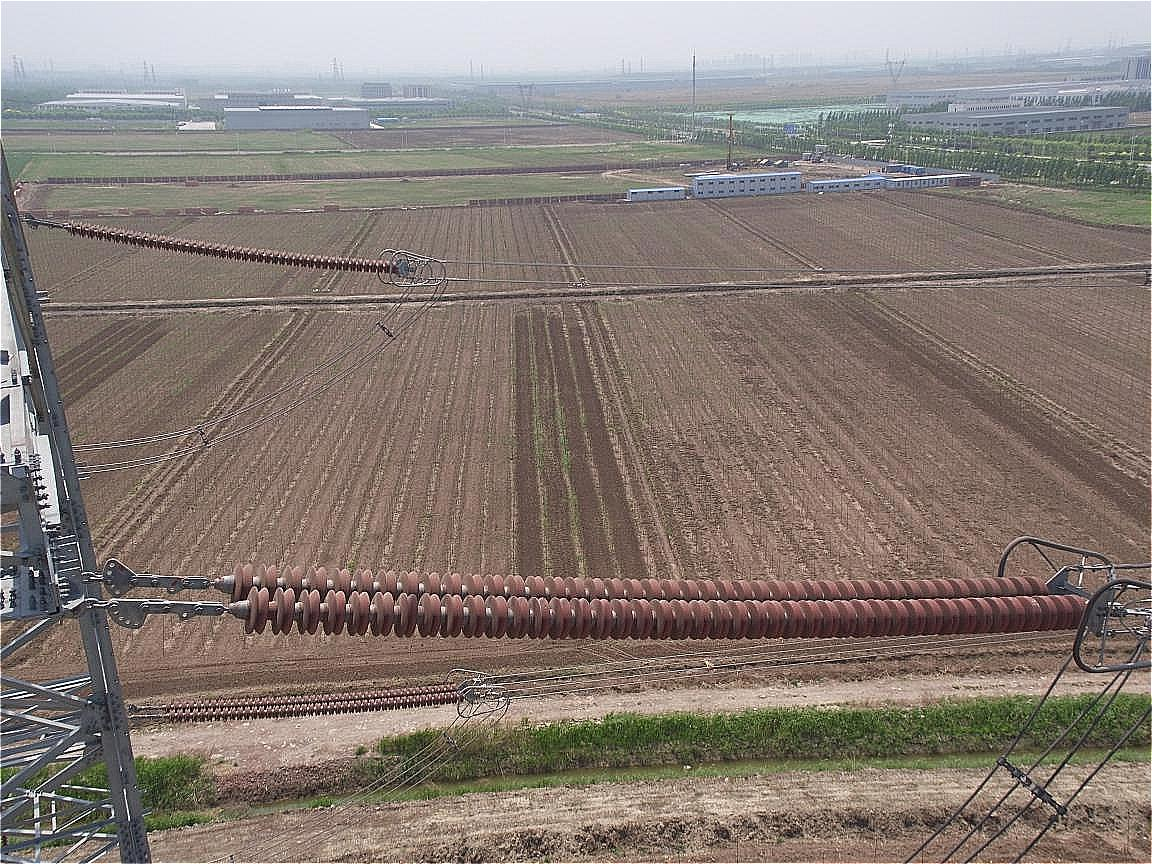insultor2: (208, 556, 1101, 671), (54, 215, 405, 288), (159, 680, 480, 724)
